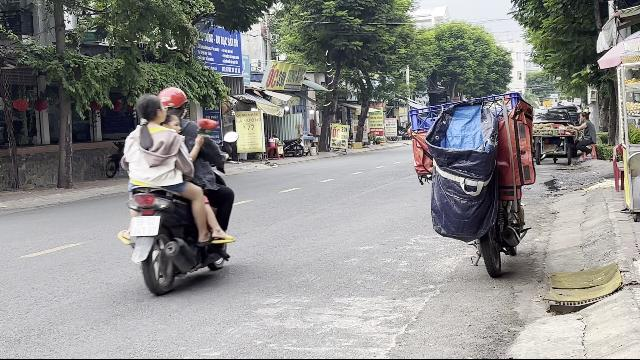helmet: (158, 87, 188, 120)
licenseplate: (130, 216, 162, 236)
motorcyclist: (116, 86, 236, 290)
nohelmet: (133, 94, 163, 127)
